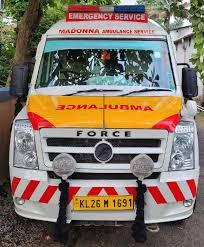ambulance: (8, 5, 200, 231)
